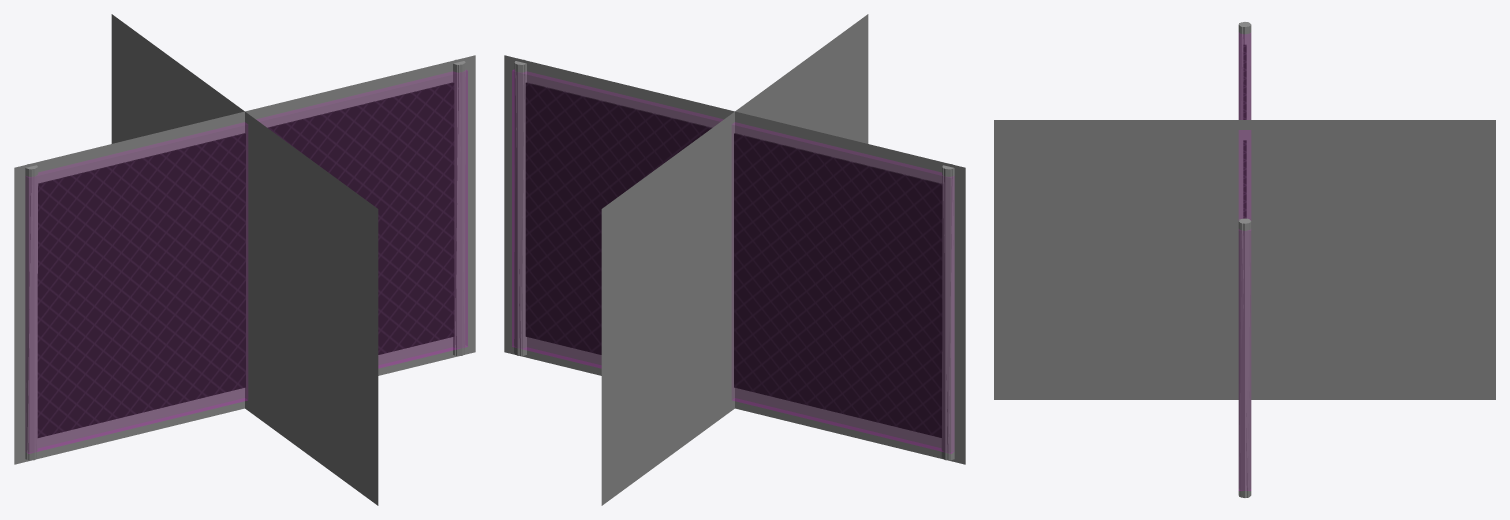
The model's file is chainlink_dark_3m.dae.
The picture shows the model from 3 angles, left to right: view 1: azimuth 30°, elevation 25°; view 2: azimuth 150°, elevation 25°; view 3: azimuth 270°, elevation 25°; orthographic projection. The views are drawn at different scales.
Parts seen in each view (by area): view 1: chainlink_dark_3m_a800, Colmesh_panel-1, chainlink_dark_3m_a50, chainlink_dark_3m_a200; view 2: chainlink_dark_3m_a800, Colmesh_panel-1, chainlink_dark_3m_a50, chainlink_dark_3m_a200; view 3: chainlink_dark_3m_a50, chainlink_dark_3m_a800, Colmesh_panel-1, chainlink_dark_3m_a200.
Part boxes in pixels (left/top/right/bottom): chainlink_dark_3m_a800: left=25, top=59, right=465, bottom=460; Colmesh_panel-1: left=26, top=70, right=467, bottom=453; chainlink_dark_3m_a50: left=14, top=14, right=475, bottom=505; chainlink_dark_3m_a200: left=26, top=61, right=465, bottom=460; chainlink_dark_3m_a800: left=514, top=59, right=954, bottom=460; Colmesh_panel-1: left=512, top=69, right=953, bottom=453; chainlink_dark_3m_a50: left=504, top=14, right=965, bottom=505; chainlink_dark_3m_a200: left=514, top=63, right=953, bottom=460; chainlink_dark_3m_a50: left=994, top=120, right=1495, bottom=399; chainlink_dark_3m_a800: left=1238, top=22, right=1251, bottom=497; Colmesh_panel-1: left=1239, top=33, right=1250, bottom=490; chainlink_dark_3m_a200: left=1239, top=22, right=1250, bottom=497.
Bounding box in the file's own units: 3.15 × 3.15 × 1.94.
Materials: 3 (1 with a texture image).
